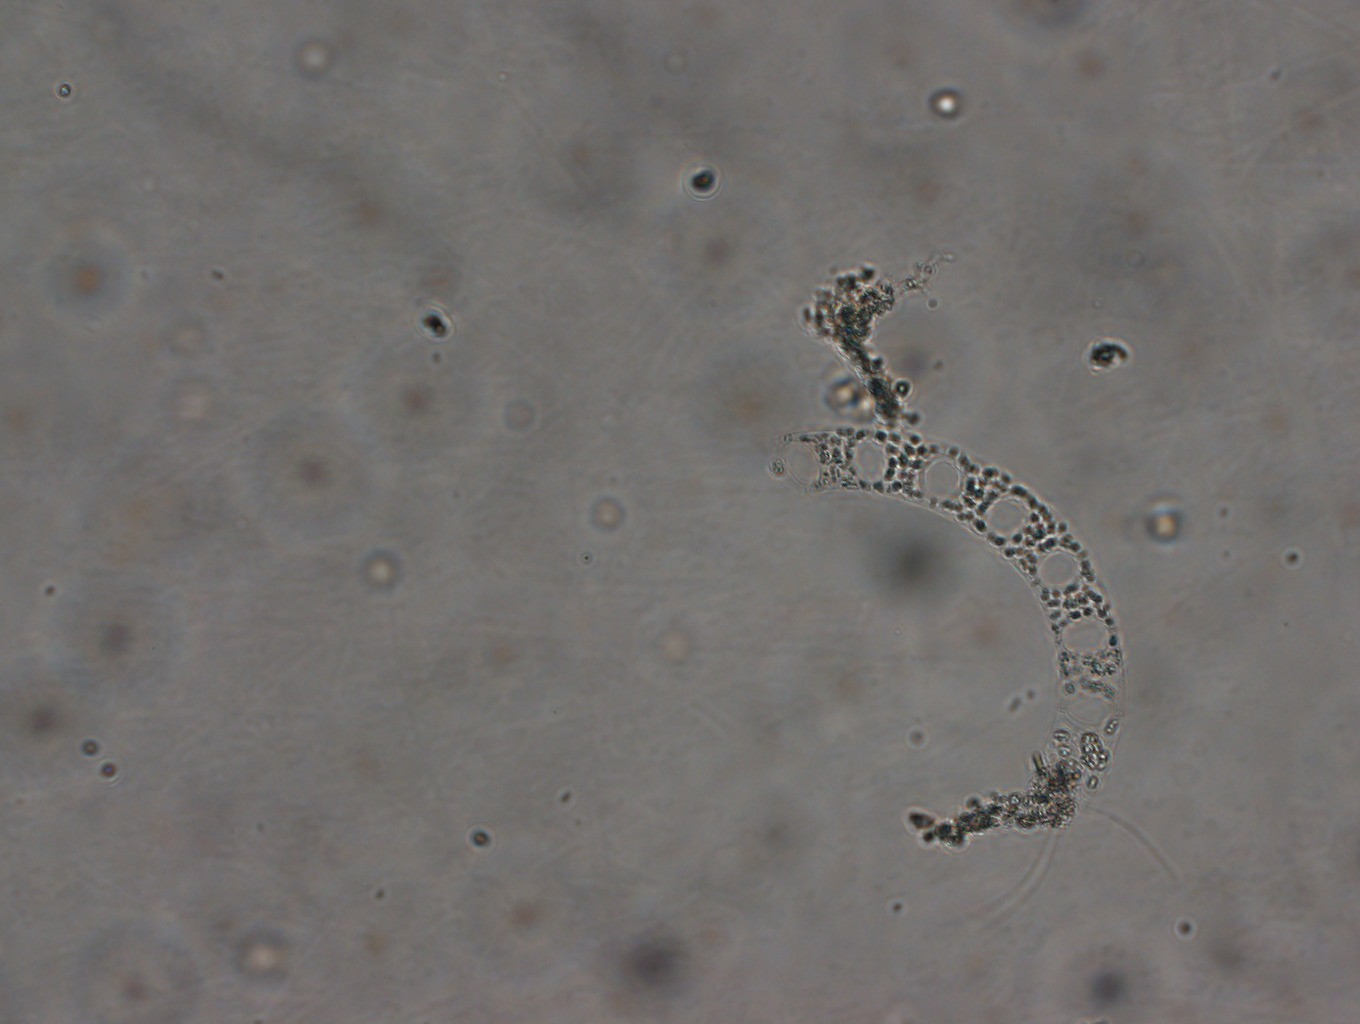eucampia: (762, 406, 1132, 796)
